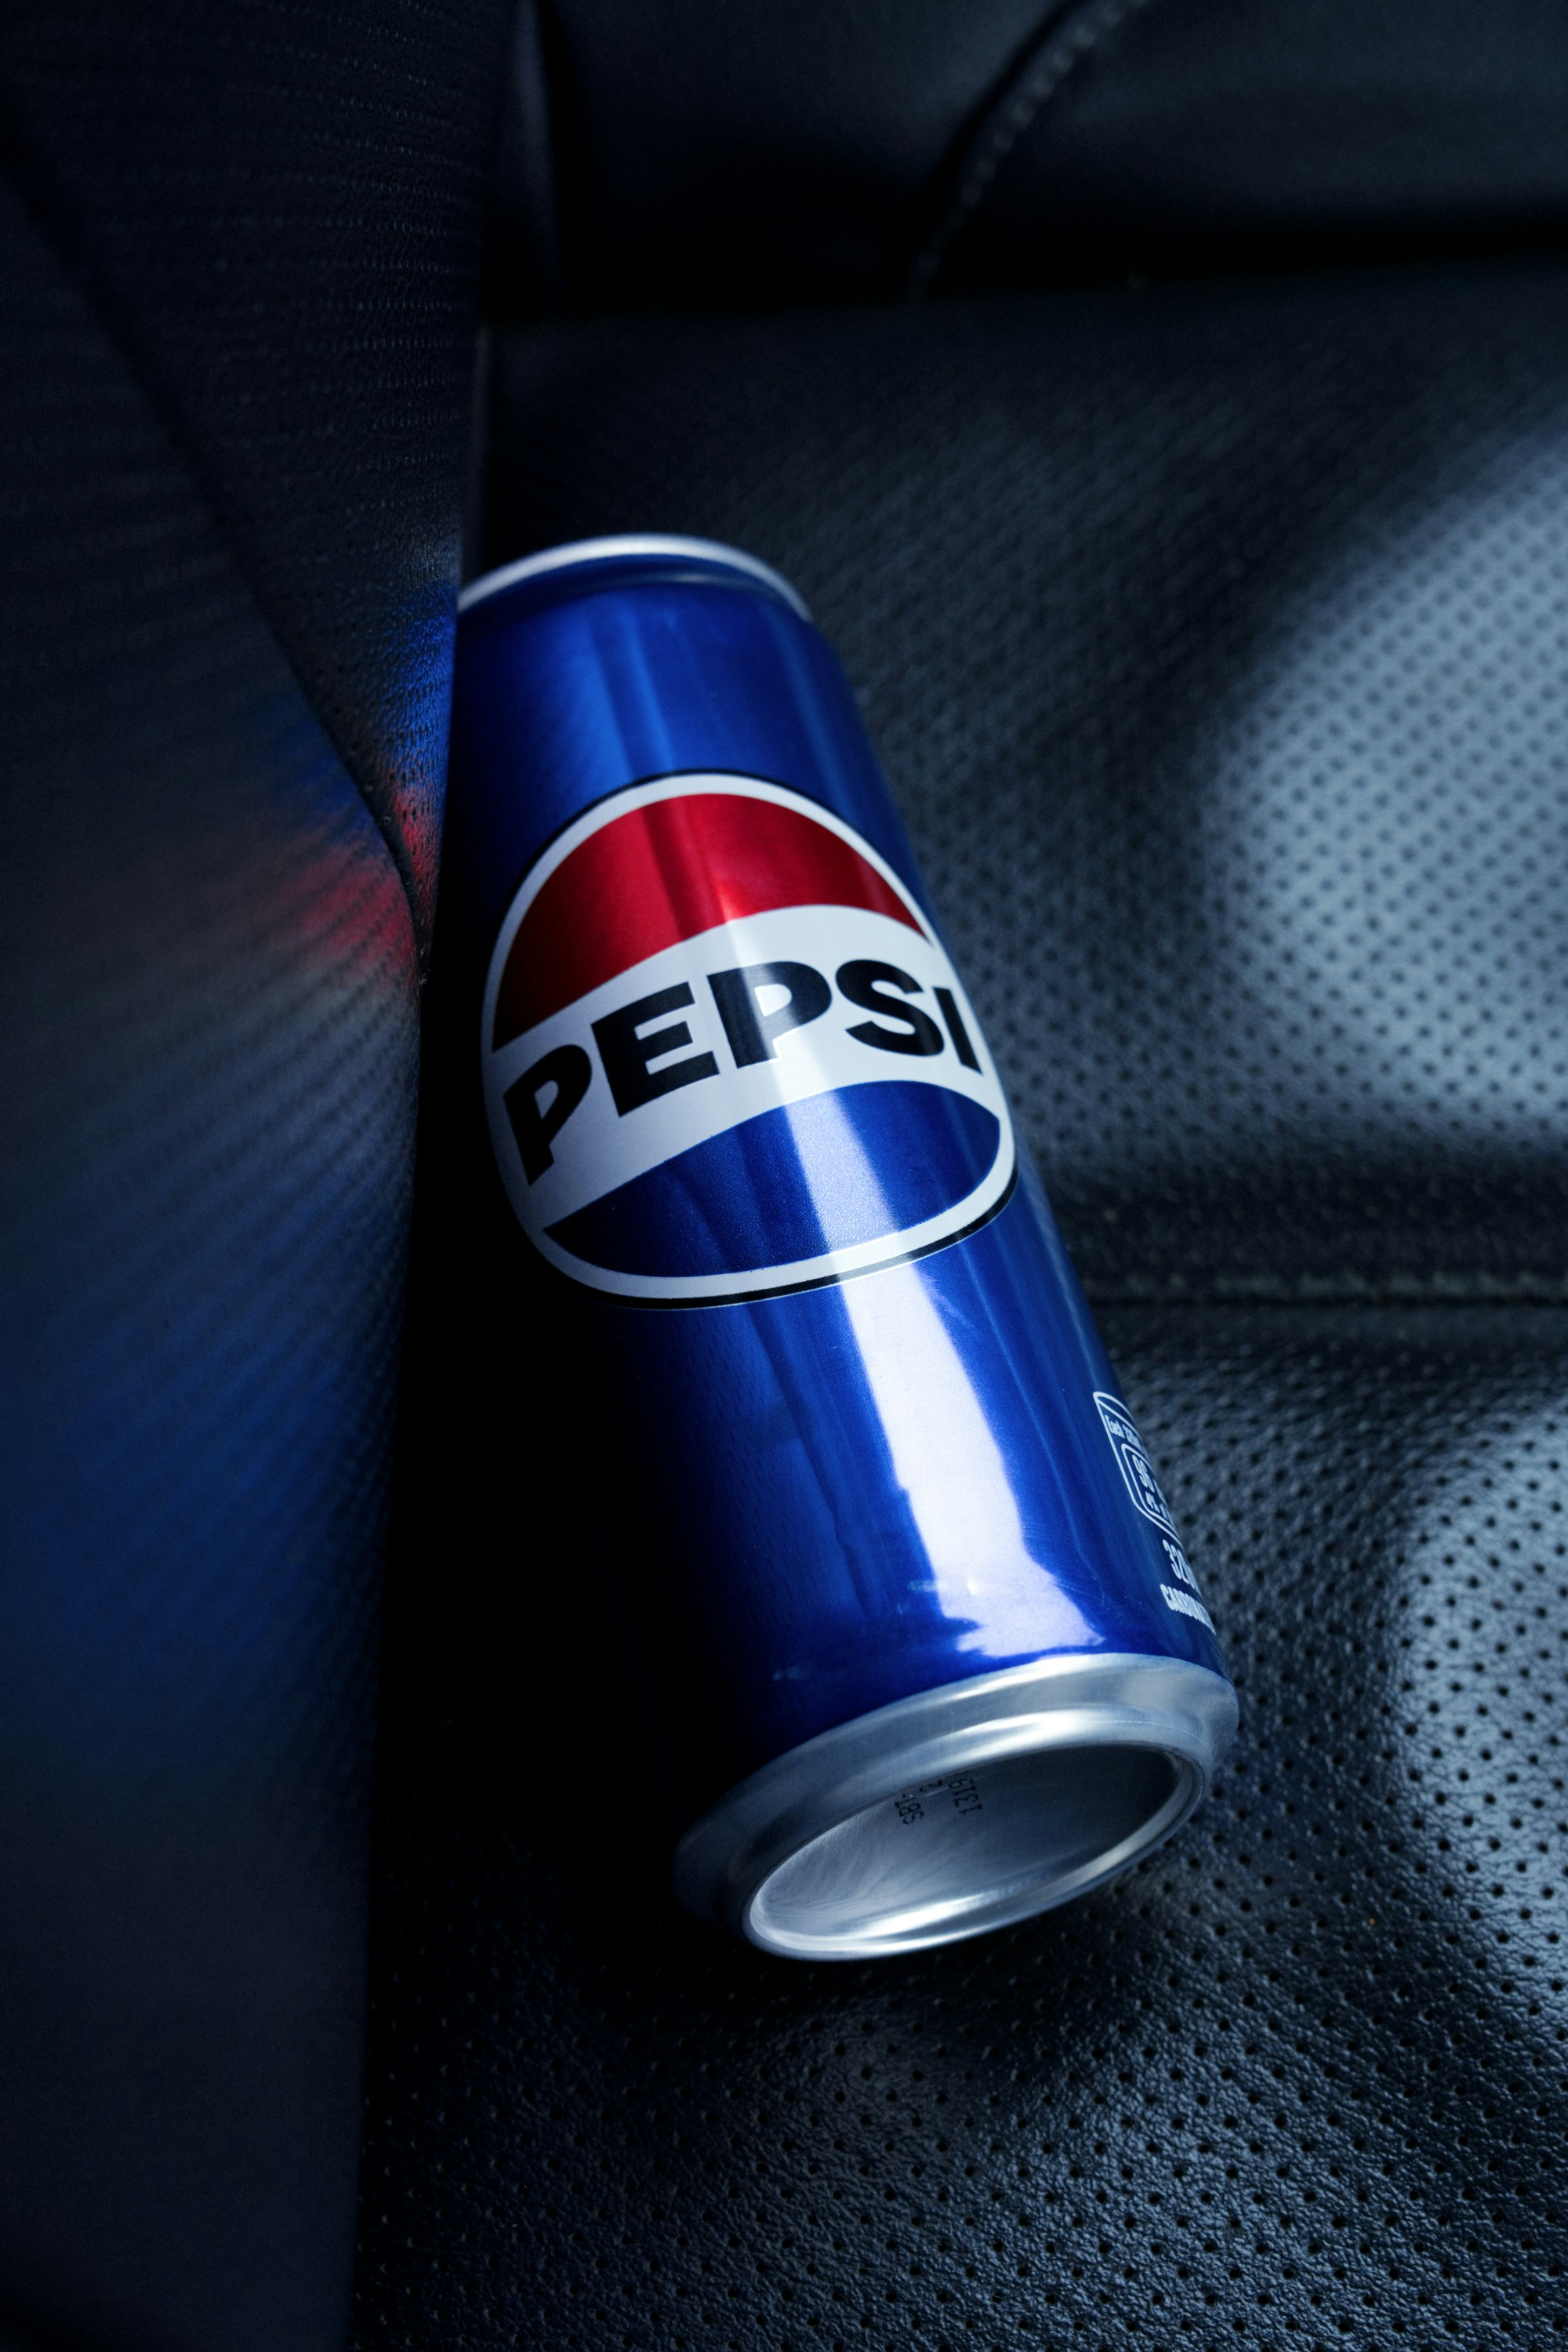PEPSI: (434, 529, 1239, 1943)
